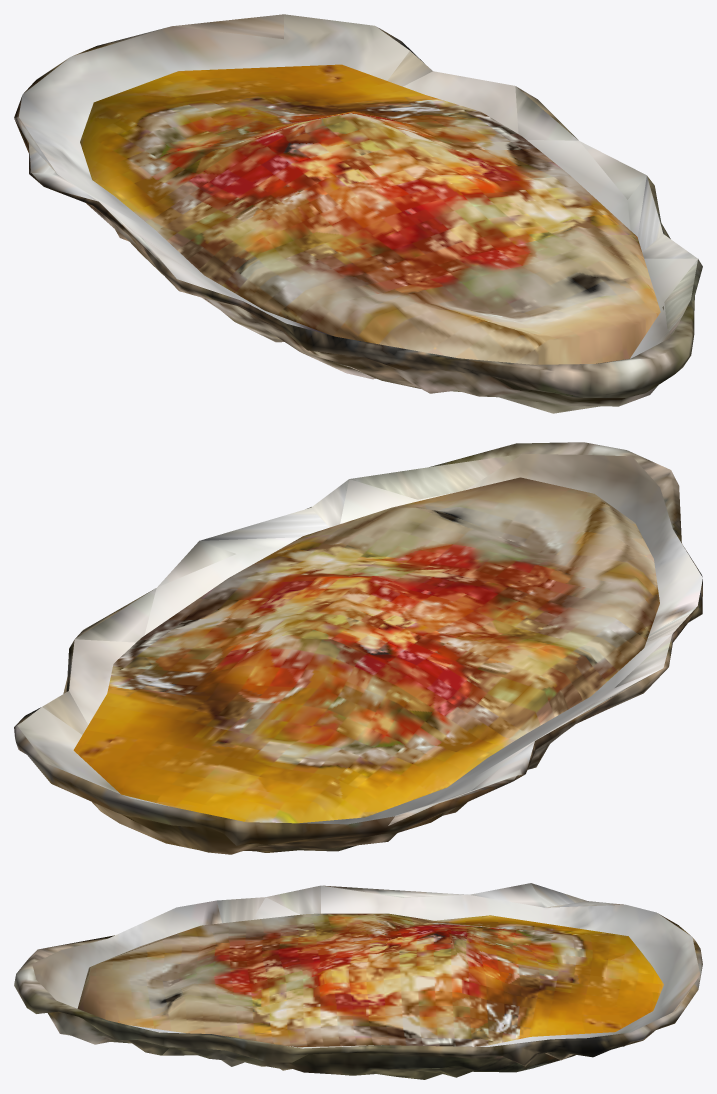
Rendered from Scallop.obj.
The picture shows the model from 3 angles, top to bottom: view 1: azimuth 30°, elevation 25°; view 2: azimuth 150°, elevation 25°; view 3: azimuth 270°, elevation 25°; orthographic projection. The views are drawn at different scales.
Visible parts, largest first — view 1: Line003.003, Line004.003; view 2: Line003.003, Line004.003; view 3: Line003.003, Line004.003.
Boxes of the visible parts, x1,y1,x2,y2 form: Line003.003: (80, 64, 660, 364); Line004.003: (14, 14, 702, 413); Line003.003: (73, 477, 659, 823); Line004.003: (14, 442, 702, 854); Line003.003: (77, 913, 663, 1047); Line004.003: (14, 883, 702, 1079).
Bounding box in the file's own units: 1.02 × 0.3166 × 1.79.
